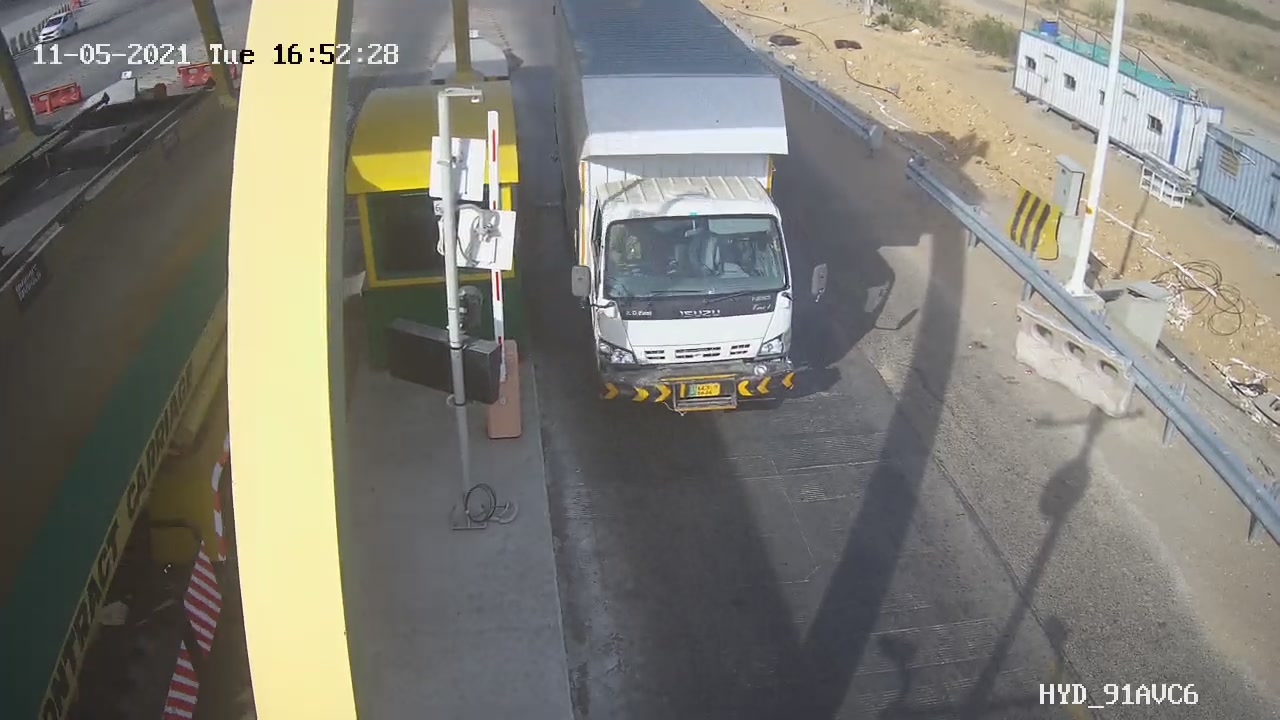F5: (534, 8, 829, 444)
